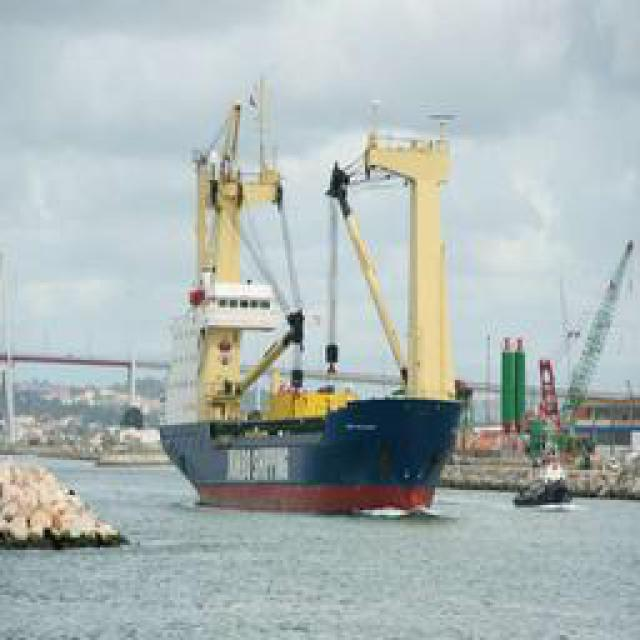Ship: (161, 60, 476, 520)
